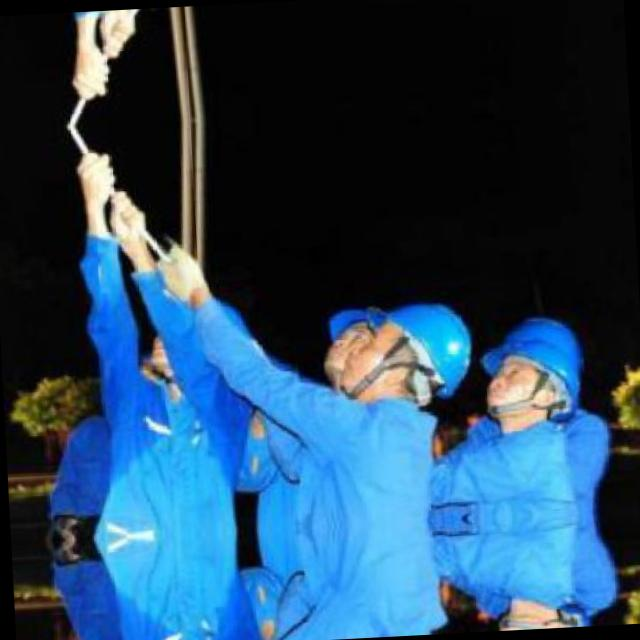helmet: (343, 301, 470, 413), (482, 311, 592, 435), (317, 304, 397, 390), (497, 590, 602, 630)
